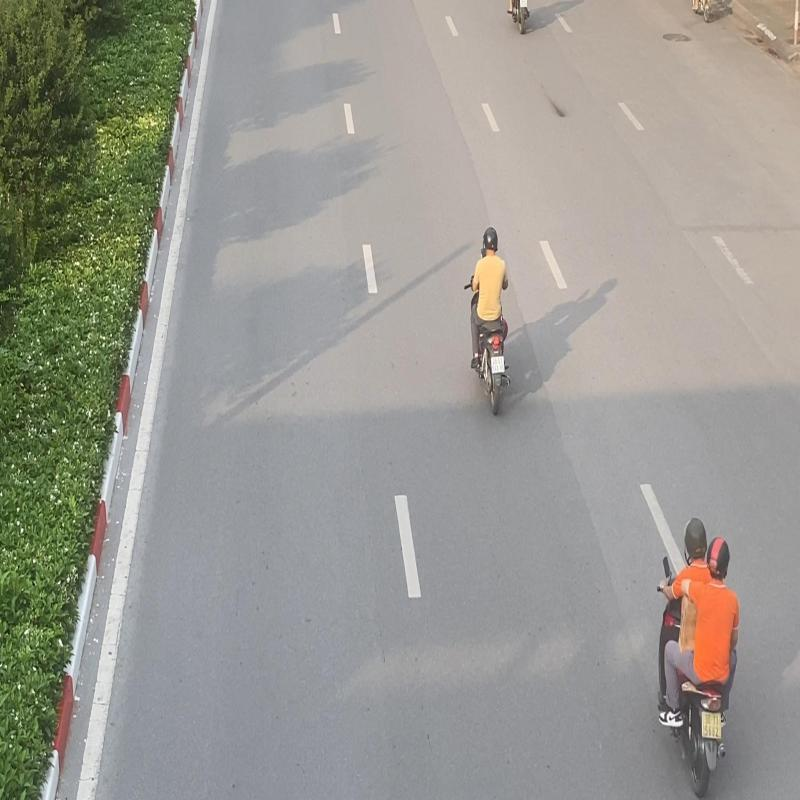helmet: (682, 514, 708, 561), (707, 534, 731, 581), (482, 225, 499, 254)
licenseplate: (700, 710, 722, 740), (490, 355, 504, 374)
motorcyclist: (653, 515, 739, 800), (463, 224, 513, 418)
